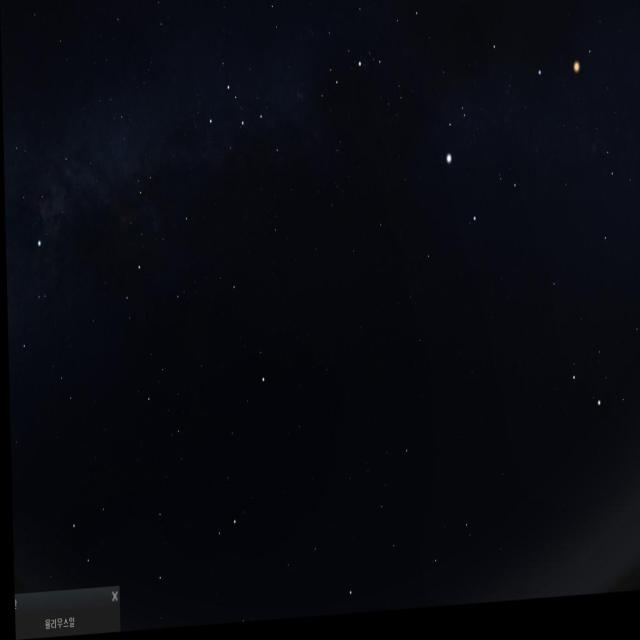cassiopeia: (199, 72, 297, 177)
